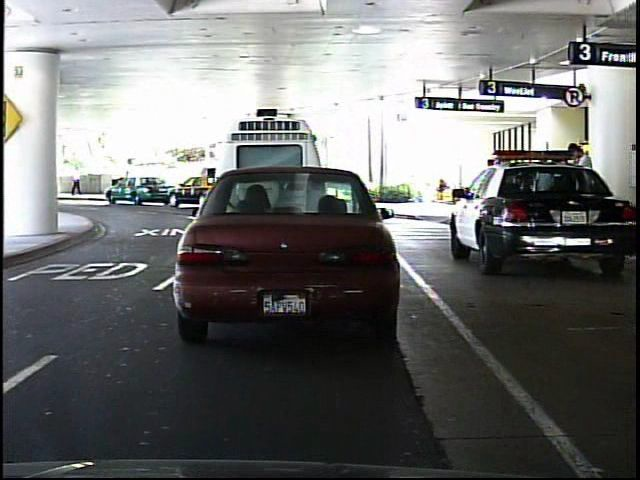person: (564, 136, 601, 246), (118, 167, 137, 200), (71, 162, 85, 197)
